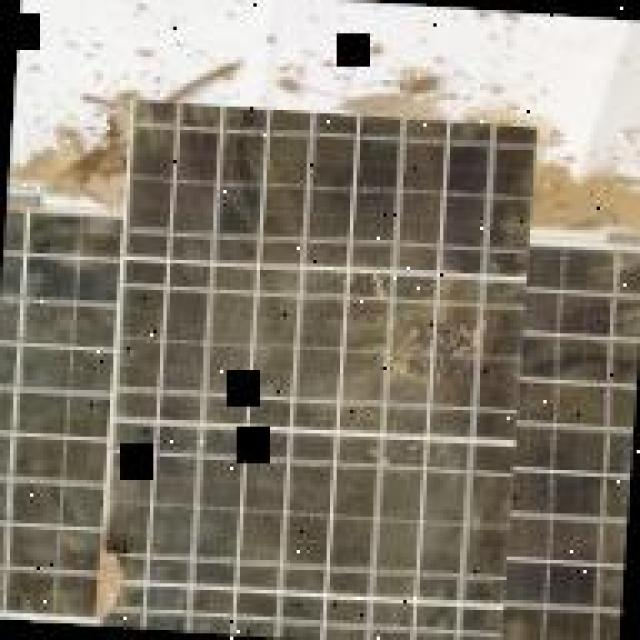dust-solar-panel: (0, 103, 640, 640)
